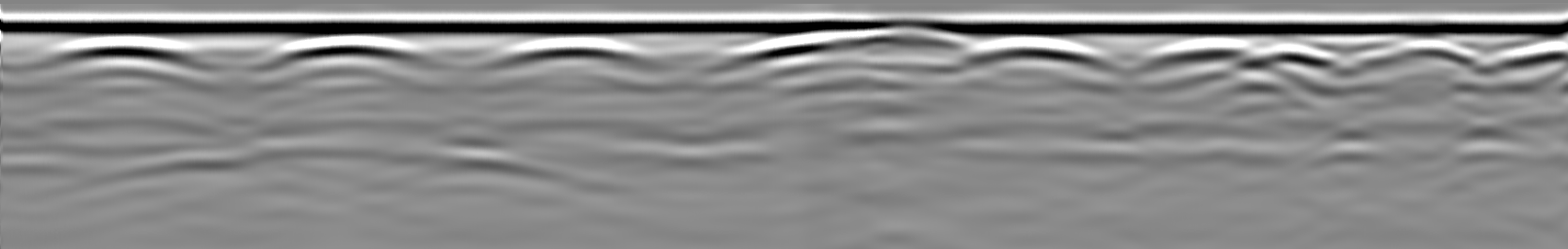pipe: (838, 19, 980, 53)
steel: (479, 33, 667, 74), (253, 33, 438, 74), (34, 33, 216, 74), (1132, 33, 1278, 77), (1341, 36, 1488, 77), (708, 33, 845, 70), (966, 36, 1111, 70), (1239, 40, 1347, 78)
